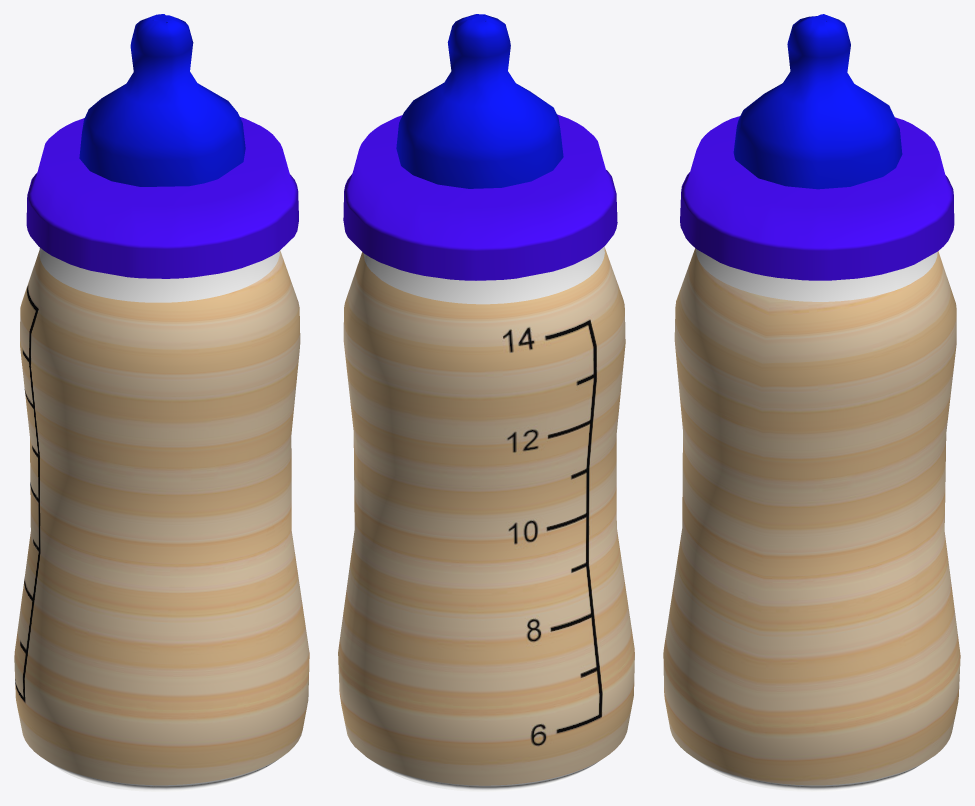
File: feeder.fbx
3 renders of one model, left to right at view 1: azimuth 30°, elevation 25°; view 2: azimuth 150°, elevation 25°; view 3: azimuth 270°, elevation 25°, orthographic.
Visible parts, largest first — view 1: polySurface1, polySurface2, polySurface3; view 2: polySurface1, polySurface2, polySurface3; view 3: polySurface1, polySurface2, polySurface3.
Boxes of the visible parts, box(x1,y1,x2,y2) form: polySurface1: box(14, 248, 309, 791); polySurface2: box(26, 117, 298, 278); polySurface3: box(79, 14, 245, 186); polySurface1: box(338, 246, 634, 791); polySurface2: box(343, 114, 617, 280); polySurface3: box(396, 14, 563, 188); polySurface1: box(663, 248, 960, 791); polySurface2: box(680, 116, 954, 280); polySurface3: box(733, 14, 902, 189).
Bounding box in the file's own units: 60.79 × 163 × 60.79.
